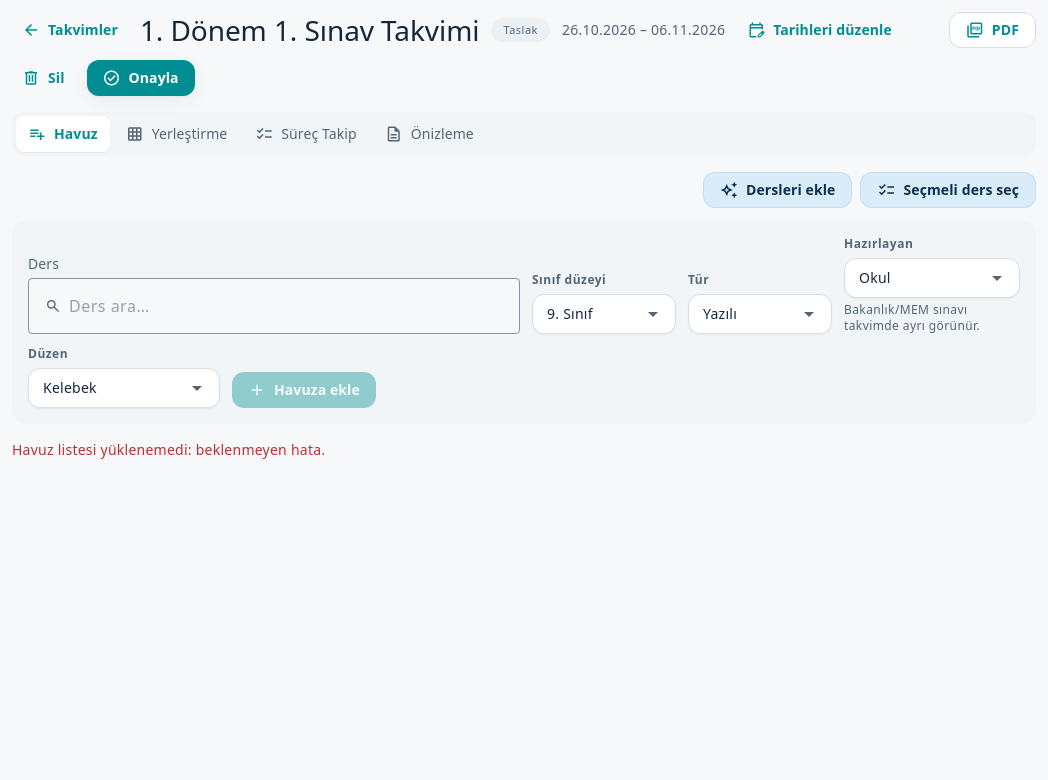
TakvimDetayPage — onay akışı › taslakta tek birincil düğme “Onayla”dır; sırayla submit ve approve çağırır
This screenshot has width=1048, height=780.
Click the button "Onayla" at coordinates (141, 78), box [87,60,195,96]
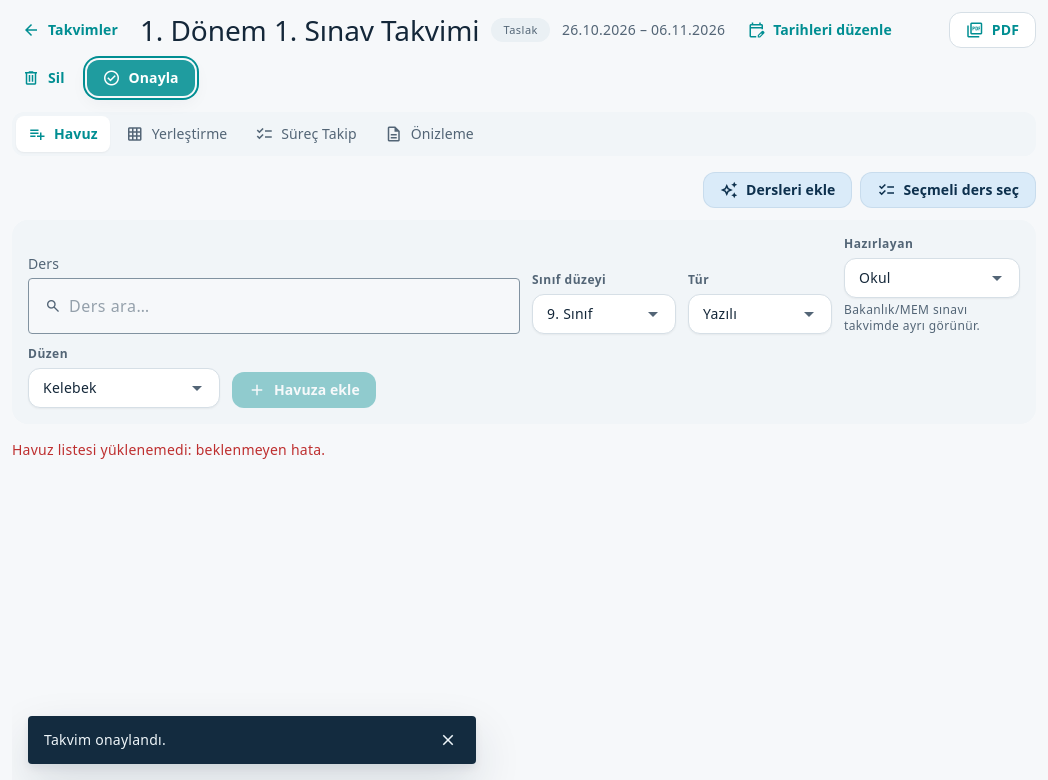
Expected: the text "Takvim onaylandı." is shown, [44,730,166,749]
